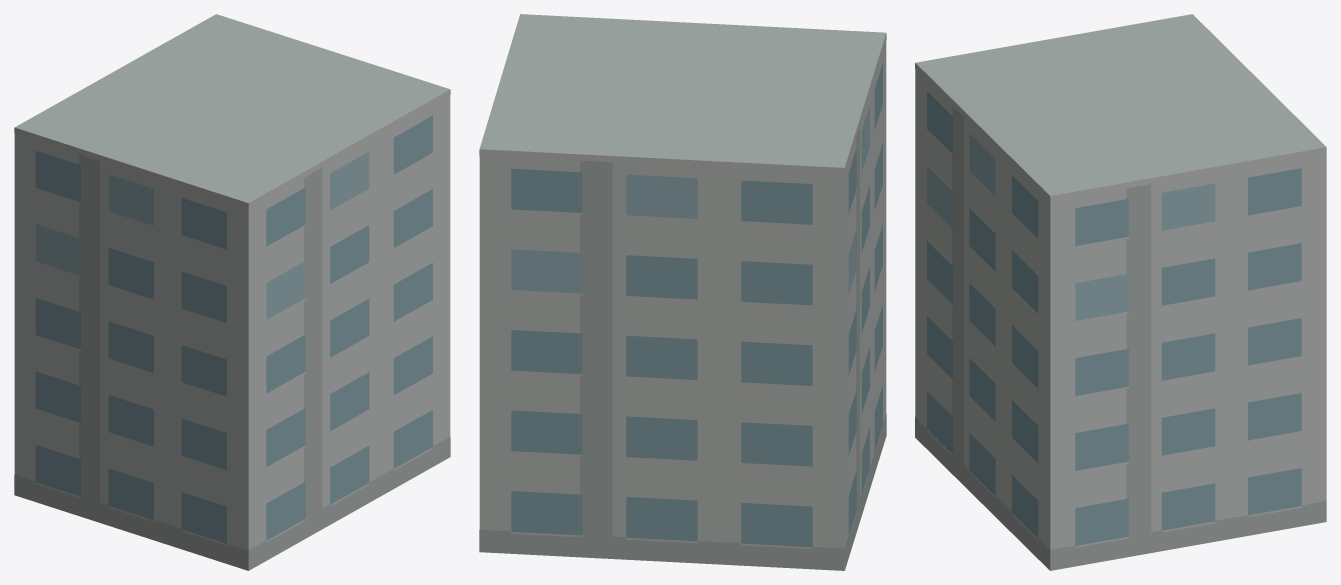
Rendered from survey-upis-32700139.glb.
The picture shows the model from 3 angles, left to right: view 1: azimuth 30°, elevation 25°; view 2: azimuth 150°, elevation 25°; view 3: azimuth 270°, elevation 25°; orthographic projection. The views are drawn at different scales.
Parts seen in each view (by area): view 1: survey-upis-32700139.tmp; view 2: survey-upis-32700139.tmp; view 3: survey-upis-32700139.tmp.
Part boxes in pixels (x1,y1,x2,y2): survey-upis-32700139.tmp: [14, 14, 450, 570]; survey-upis-32700139.tmp: [479, 14, 886, 570]; survey-upis-32700139.tmp: [915, 14, 1326, 570].
Bounding box in the file's own units: 15.94 × 15.3 × 15.23.
